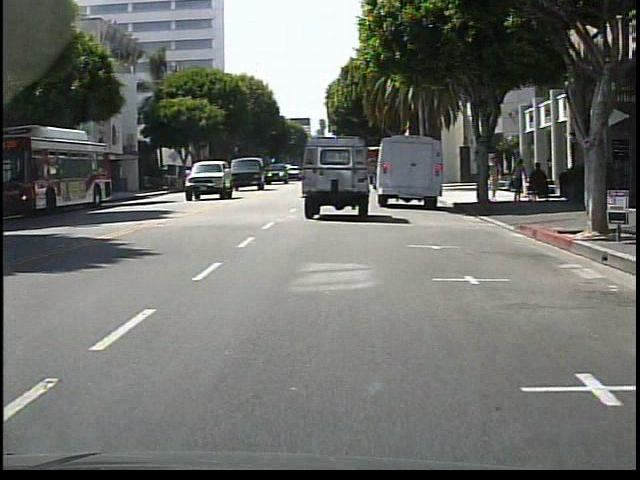person: (510, 161, 526, 202), (488, 156, 502, 200)
